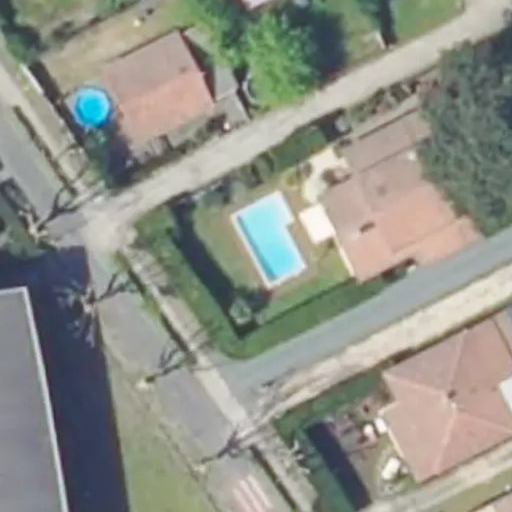pool: (232, 190, 303, 290), (73, 87, 112, 130)
